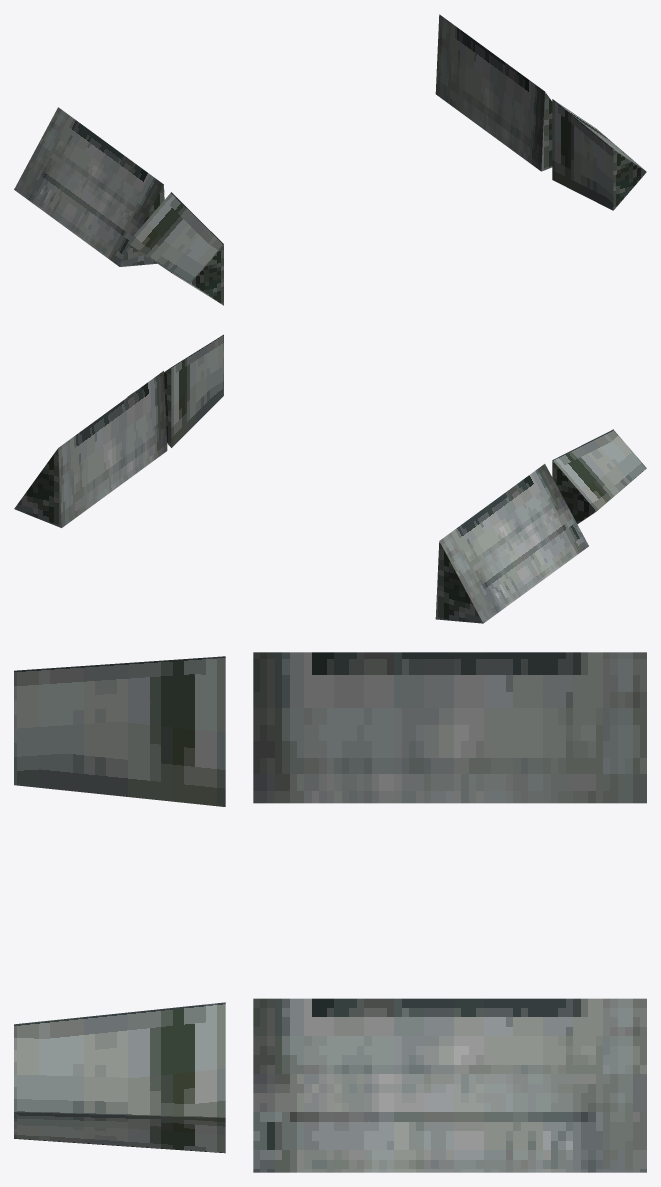
Rendered from kse_firespray_weapon1_s04_l2.fbx.
The picture shows the model from 3 angles, top to bottom: view 1: azimuth 30°, elevation 25°; view 2: azimuth 150°, elevation 25°; view 3: azimuth 270°, elevation 25°; orthographic projection. The views are drawn at different scales.
Parts seen in each view (by area): view 1: mesh_node; view 2: mesh_node; view 3: mesh_node.
Boxes of the visible parts, <box> form: mesh_node: <box>14,14,646,305</box>; mesh_node: <box>14,334,646,623</box>; mesh_node: <box>14,652,646,1172</box>.
Bounding box in the file's own units: 4.16 × 0.7029 × 2.61.
1 material, 1 textured.
